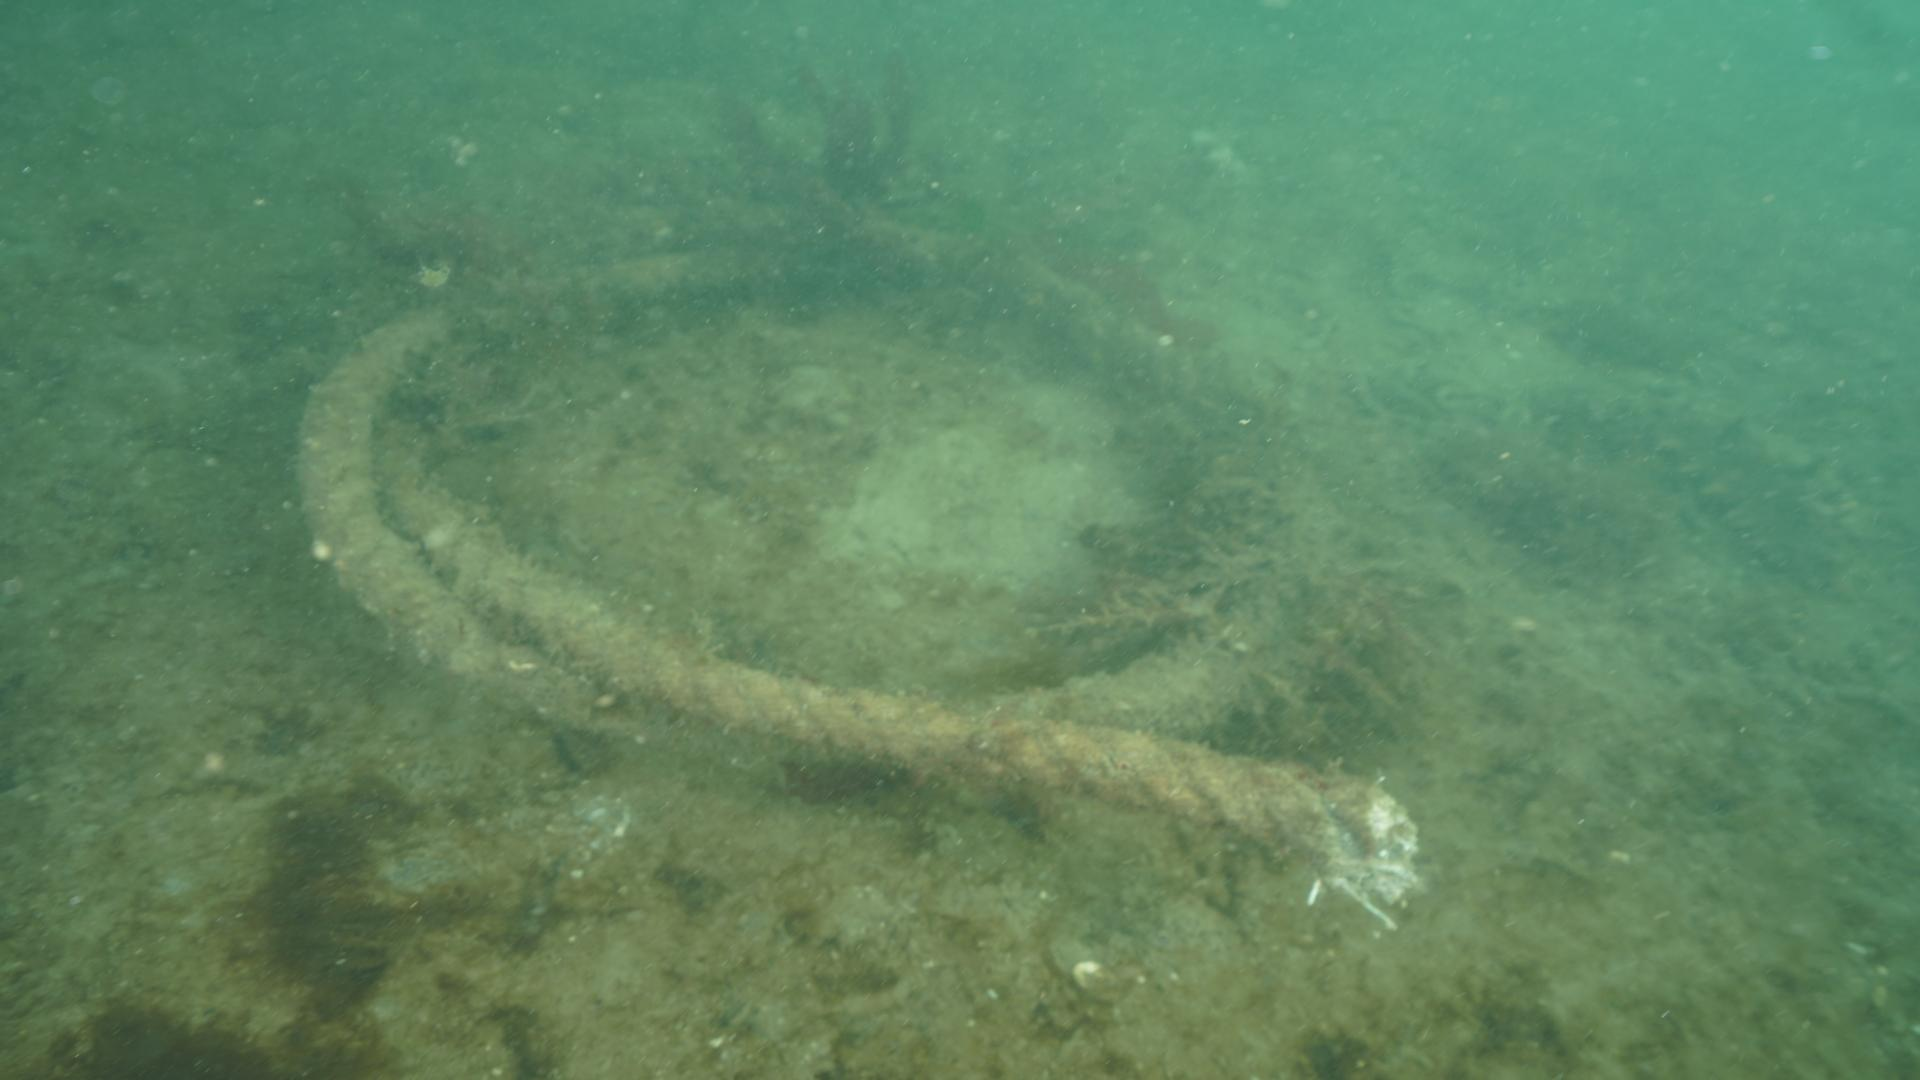bundle of ropes: (280, 198, 1364, 855)
